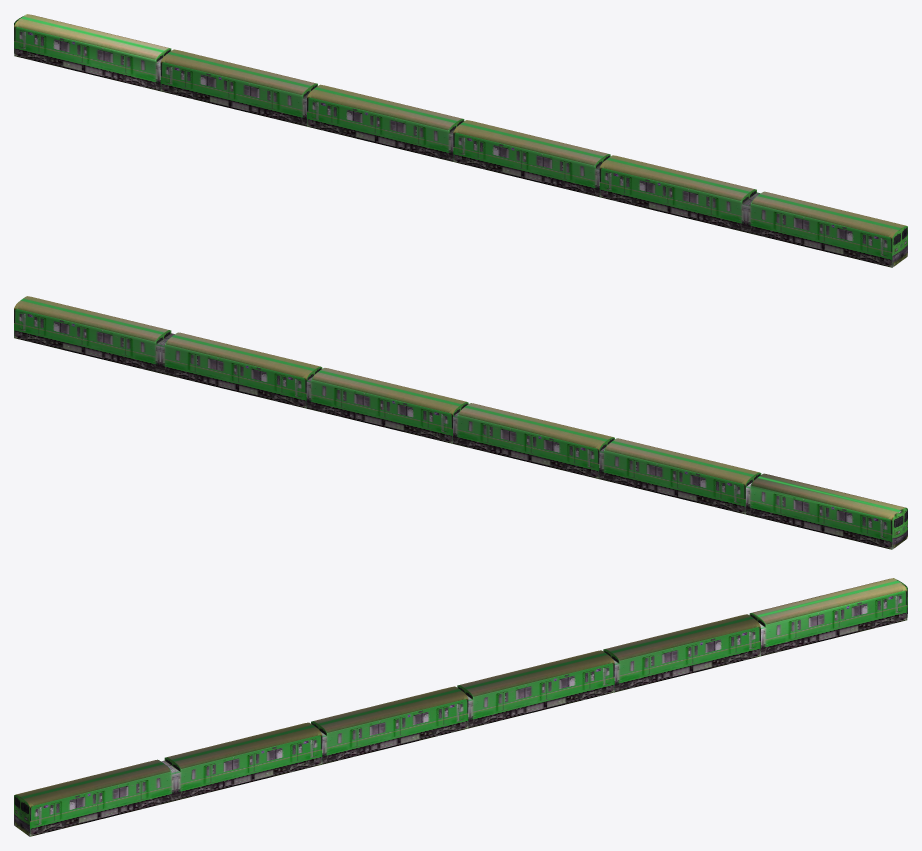
The picture shows the model from 3 angles, top to bottom: view 1: azimuth 30°, elevation 25°; view 2: azimuth 210°, elevation 25°; view 3: azimuth 270°, elevation 25°; orthographic projection.
Visible parts, largest first — view 1: Tau_cao_toc; view 2: Tau_cao_toc; view 3: Tau_cao_toc.
Part boxes in pixels (x1,y1,x2,y2): Tau_cao_toc: (14,14,907,267); Tau_cao_toc: (14,296,907,549); Tau_cao_toc: (14,578,907,836).
Size of the model in its own units: 42.29 by 2.86 by 70.04.
1 material, 1 textured.
